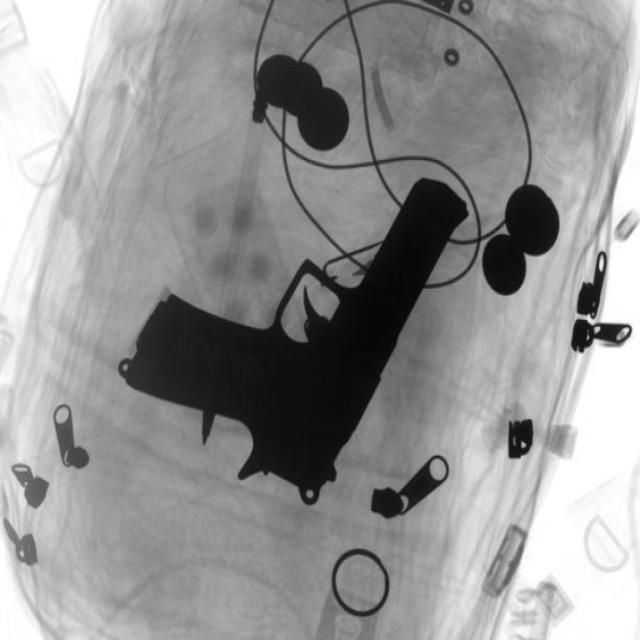GUN: (137, 167, 461, 492)
